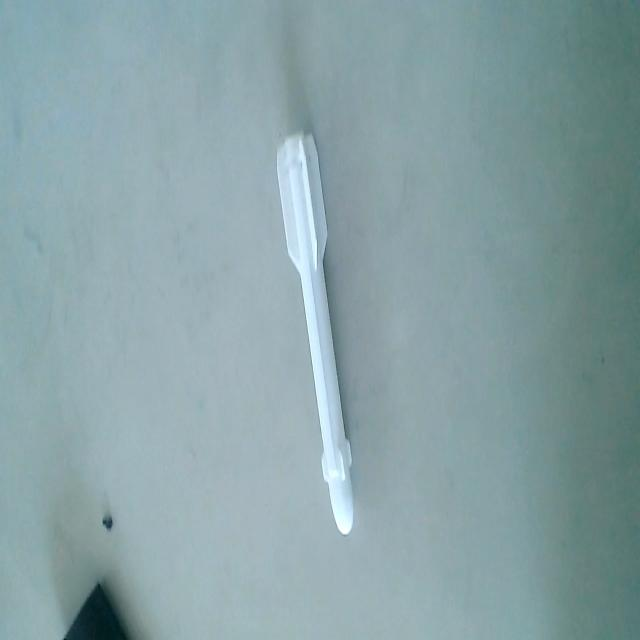Rocket: (275, 131, 357, 538)
